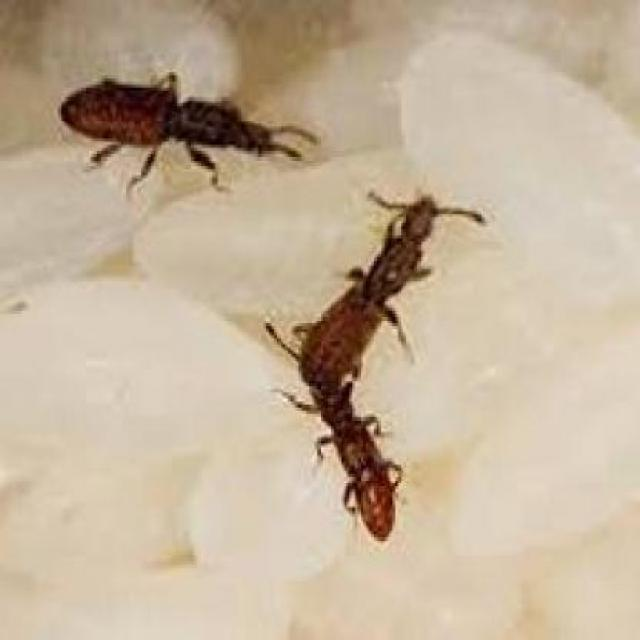rice-bug: (289, 197, 484, 544), (57, 77, 286, 168)
